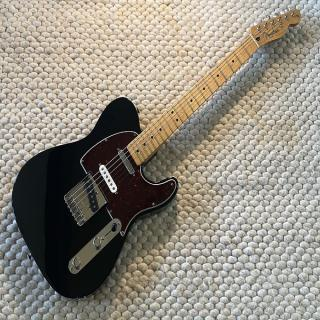Fender Telecaster: (11, 6, 306, 303)
SSS: (84, 147, 140, 217)
